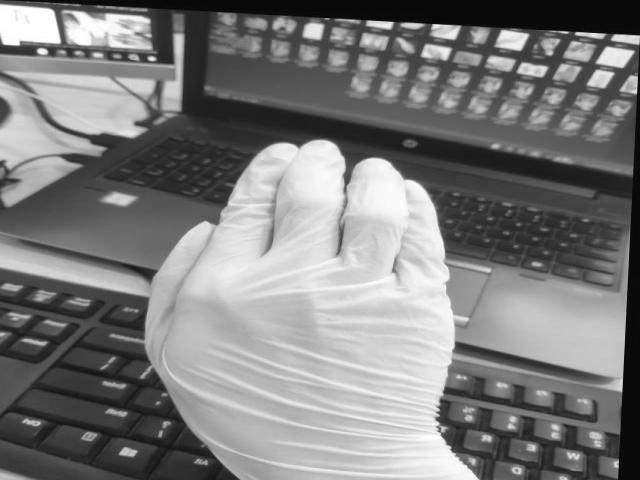gloved: (149, 140, 453, 473)
